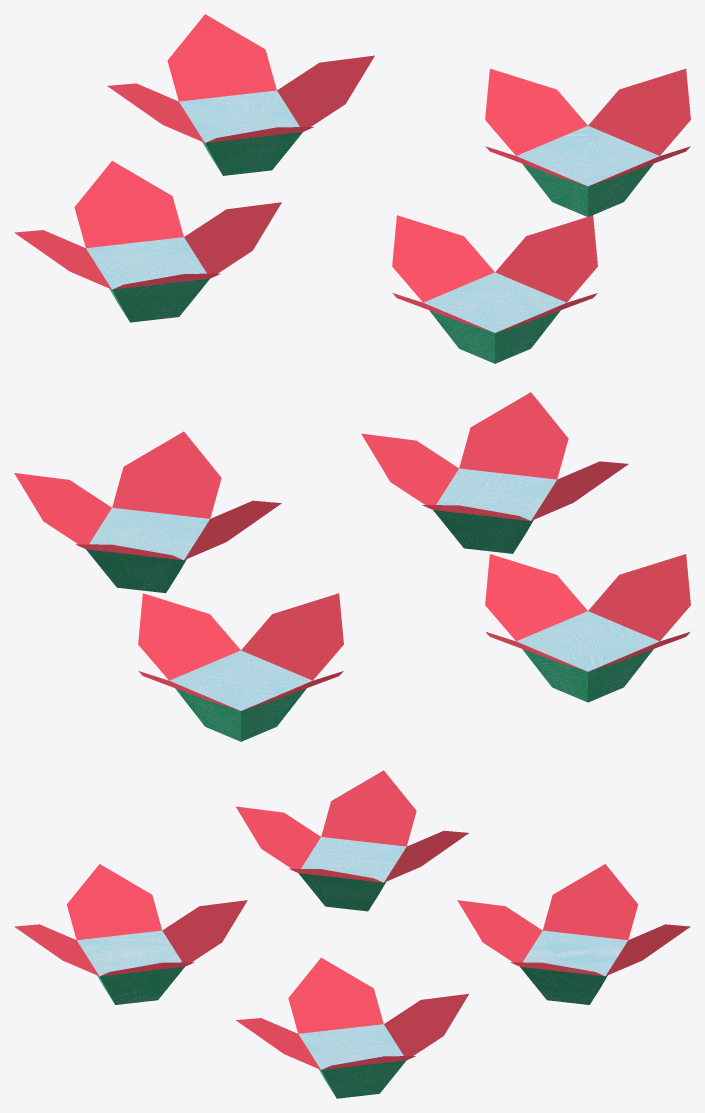
File: flowersLow.obj
3 renders of one model, top to bottom at view 1: azimuth 30°, elevation 25°; view 2: azimuth 150°, elevation 25°; view 3: azimuth 270°, elevation 25°, orthographic. The views are drawn at different scales.
Visible parts, largest first — view 1: flowersLow; view 2: flowersLow; view 3: flowersLow.
Boxes of the visible parts, bbox=[...] form: flowersLow: bbox=[14, 14, 690, 363]; flowersLow: bbox=[14, 392, 690, 741]; flowersLow: bbox=[14, 770, 690, 1098].
Size of the model in its own units: 0.7639 by 0.1 by 0.7639.
